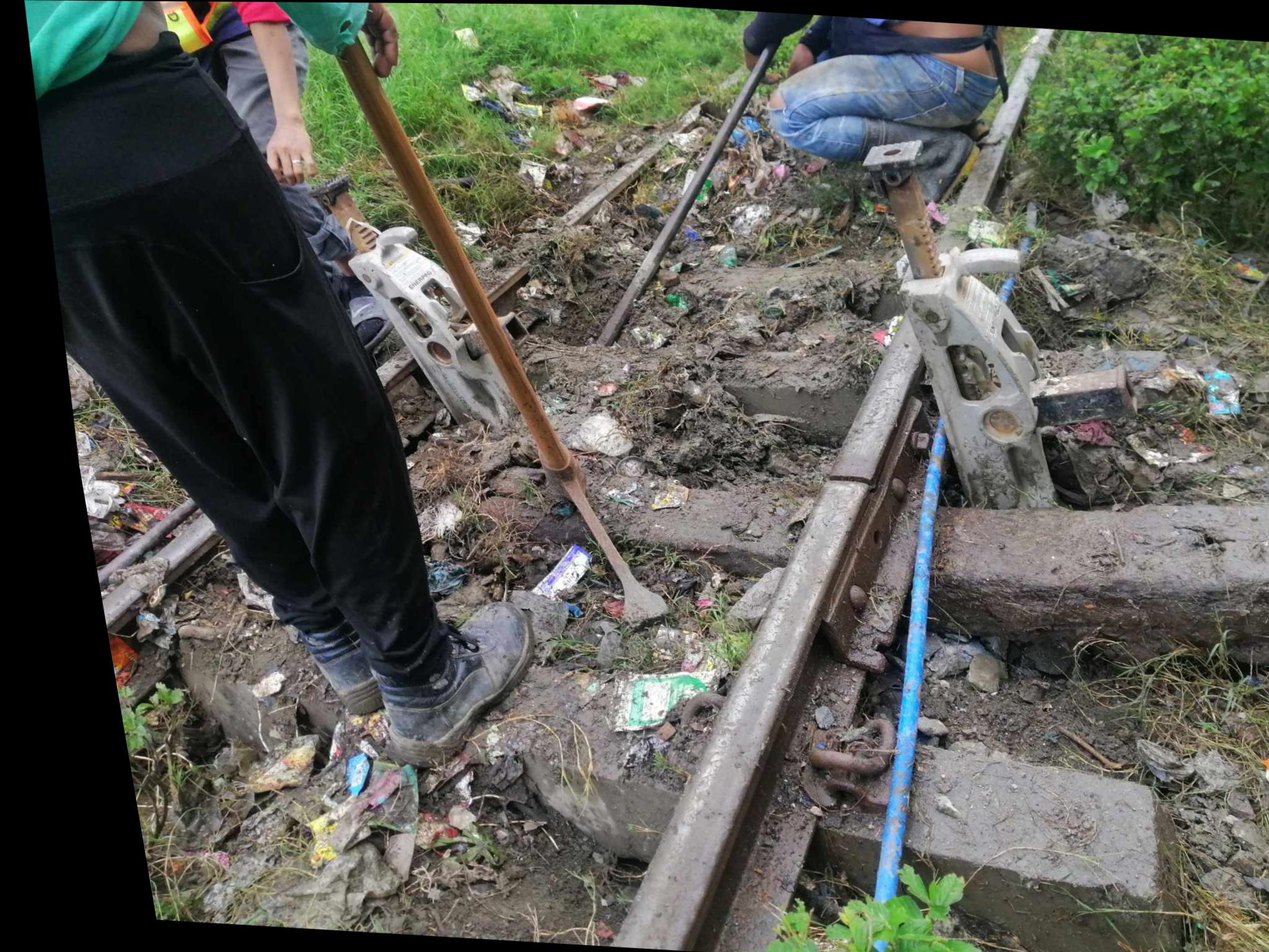person: (780, 434, 895, 526)
